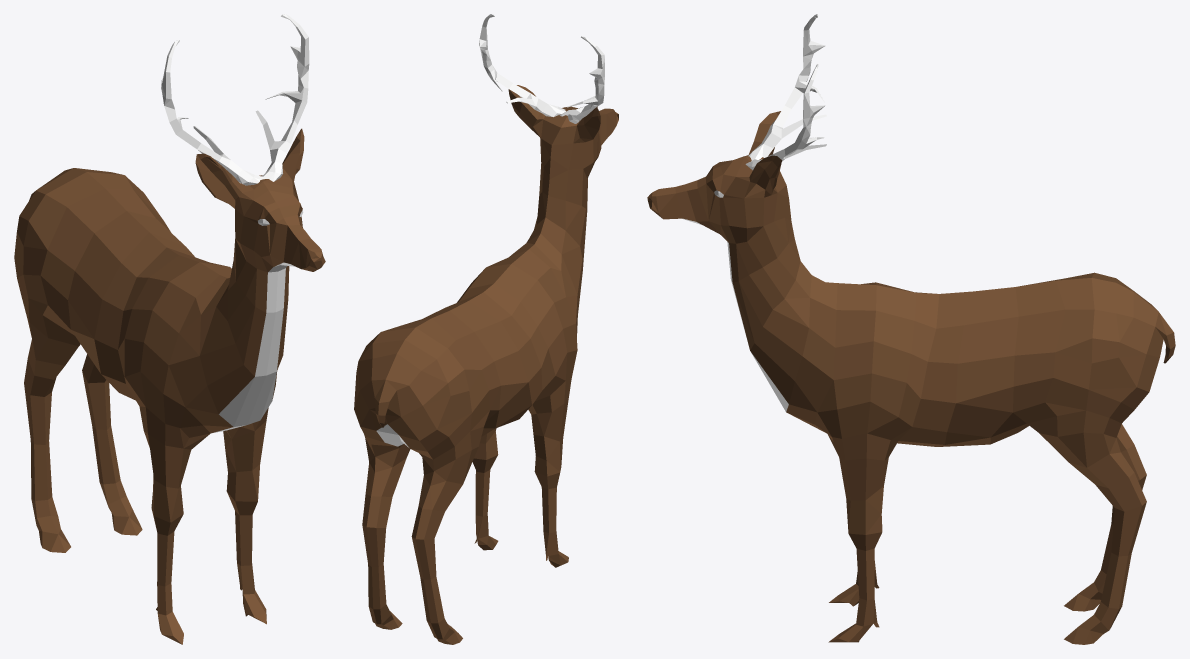
Rendered from Deer.fbx.
3 renders of one model, left to right at view 1: azimuth 30°, elevation 25°; view 2: azimuth 150°, elevation 25°; view 3: azimuth 270°, elevation 25°, orthographic. The views are drawn at different scales.
Visible parts, largest first — view 1: Deer; view 2: Deer; view 3: Deer.
Boxes of the visible parts, <box> form: Deer: <box>14,14,325,644</box>; Deer: <box>354,14,618,644</box>; Deer: <box>647,14,1175,644</box>.
Size of the model in its own units: 589 by 2378 by 1953.
